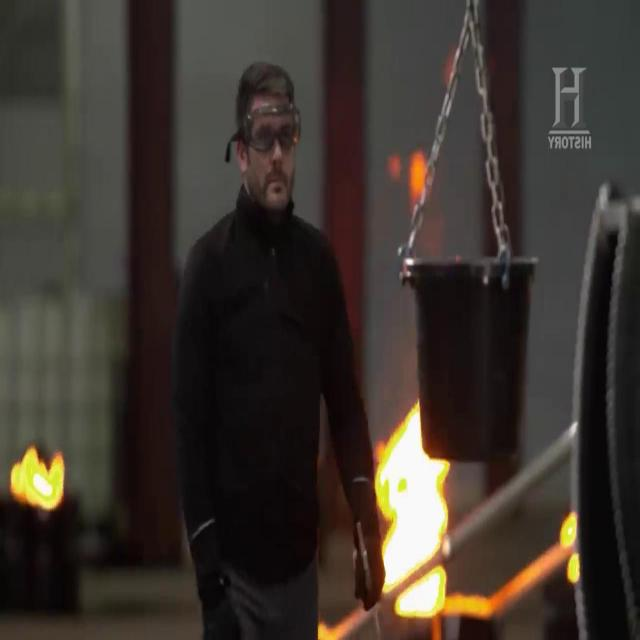fire: (373, 402, 449, 624), (10, 446, 64, 512)
